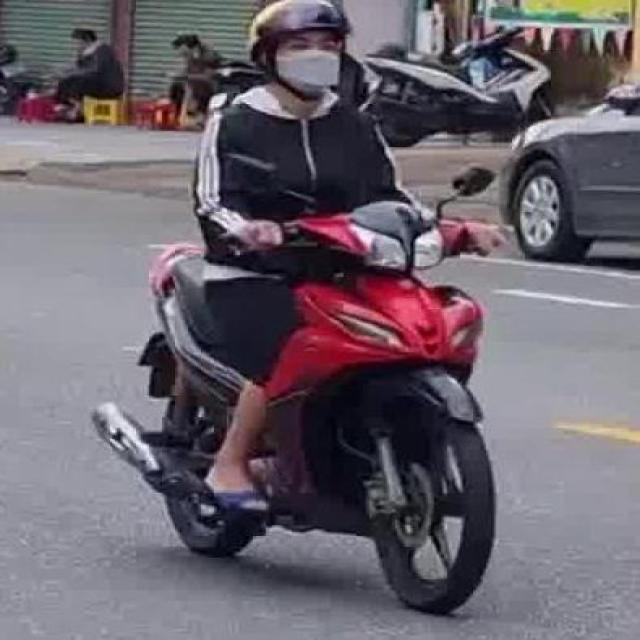helmet on: (250, 2, 357, 106)
